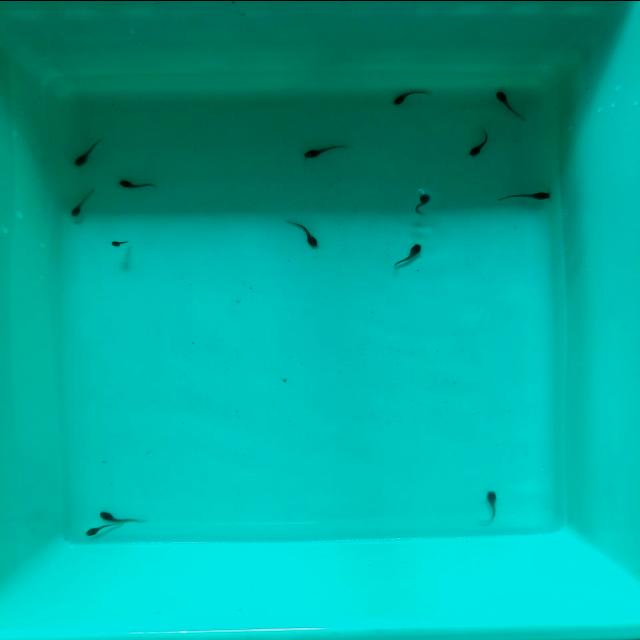lele: (491, 88, 527, 121), (69, 135, 102, 168), (286, 216, 321, 247), (390, 241, 424, 270), (299, 141, 345, 161), (389, 85, 429, 107), (67, 188, 97, 217), (94, 506, 145, 523), (79, 520, 119, 538), (466, 130, 492, 157), (498, 189, 551, 202), (480, 488, 498, 526), (116, 177, 155, 190), (414, 190, 432, 216), (108, 237, 130, 247)
